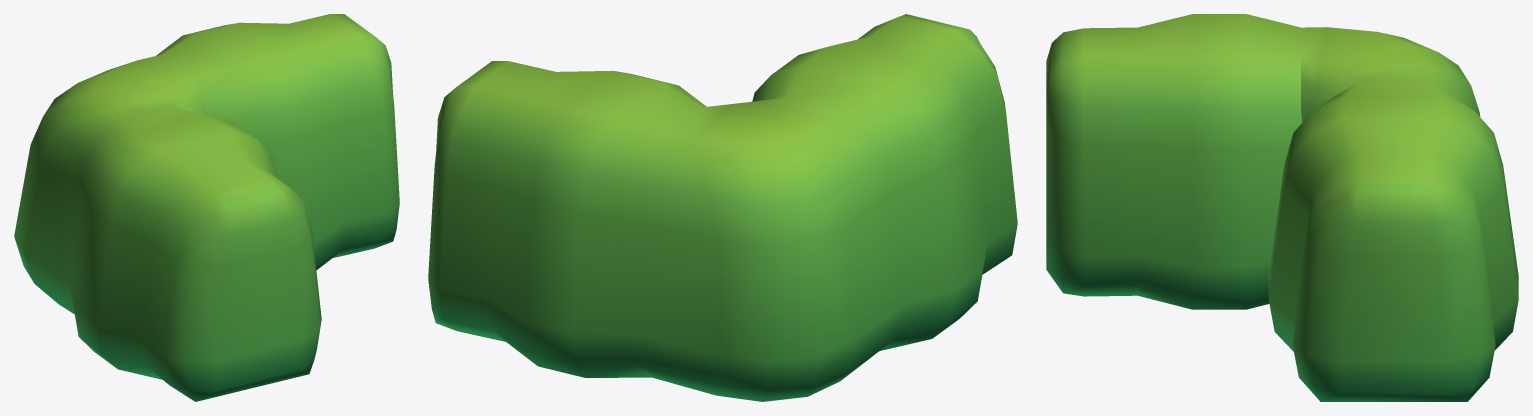
File: prop_park_hedge_corner.glb
3 renders of one model, left to right at view 1: azimuth 30°, elevation 25°; view 2: azimuth 150°, elevation 25°; view 3: azimuth 270°, elevation 25°, orthographic. The views are drawn at different scales.
Parts seen in each view (by area): view 1: hedge_corner; view 2: hedge_corner; view 3: hedge_corner.
Boxes of the visible parts, x1,y1,x2,y2 form: hedge_corner: [14, 14, 399, 401]; hedge_corner: [428, 14, 1017, 401]; hedge_corner: [1046, 14, 1518, 401].
Bounding box in the file's own units: 2.75 × 1.5 × 2.75.
Materials: 1 (1 with a texture image).
